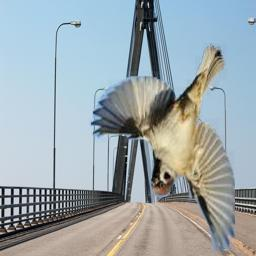Sparrow: (89, 43, 235, 255)
